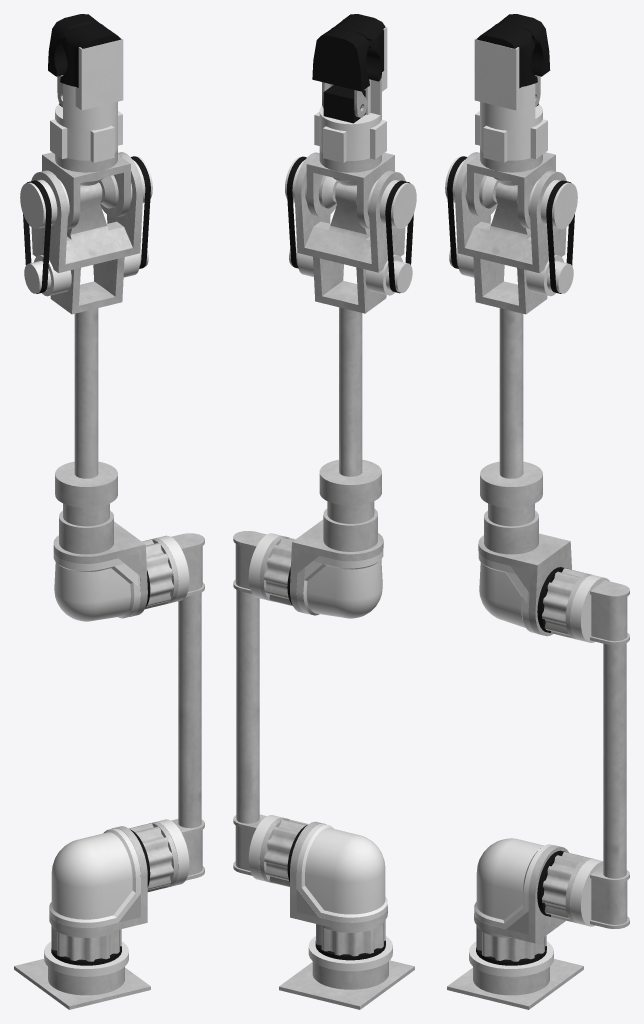
File: kalman-arm.fbx
3 views of the same model, side by side, from view 1: azimuth 30°, elevation 25°; view 2: azimuth 150°, elevation 25°; view 3: azimuth 330°, elevation 25° (orthographic).
Parts seen in each view (by area): view 1: arm4.001, arm1.001, arm3.001, arm2.001, arm6.001, arm0_base.001, arm5.001, arm7_jaw.001; view 2: arm4.001, arm1.001, arm3.001, arm2.001, arm6.001, arm0_base.001, arm7_jaw.001, arm5.001; view 3: arm4.001, arm2.001, arm1.001, arm3.001, arm6.001, arm0_base.001, arm5.001, arm7_jaw.001.
Part boxes in pixels (<box>): arm4.001: <box>20,152,152,507</box>; arm1.001: <box>49,822,178,965</box>; arm3.001: <box>53,503,178,621</box>; arm2.001: <box>156,533,204,886</box>; arm6.001: <box>50,23,123,185</box>; arm0_base.001: <box>14,941,150,1009</box>; arm5.001: <box>42,152,130,229</box>; arm7_jaw.001: <box>48,14,98,107</box>; arm4.001: <box>285,152,416,505</box>; arm1.001: <box>259,817,387,960</box>; arm3.001: <box>259,501,383,618</box>; arm2.001: <box>233,531,281,881</box>; arm6.001: <box>314,14,387,185</box>; arm0_base.001: <box>279,936,414,1009</box>; arm7_jaw.001: <box>312,28,369,117</box>; arm5.001: <box>306,152,394,229</box>; arm4.001: <box>445,152,577,507</box>; arm2.001: <box>570,575,629,928</box>; arm1.001: <box>474,838,592,965</box>; arm3.001: <box>478,503,592,639</box>; arm6.001: <box>474,23,547,185</box>; arm0_base.001: <box>447,941,583,1009</box>; arm5.001: <box>467,152,555,229</box>; arm7_jaw.001: <box>499,14,550,106</box>.
Bounding box in the file's own units: 25.08 × 134 × 14.
